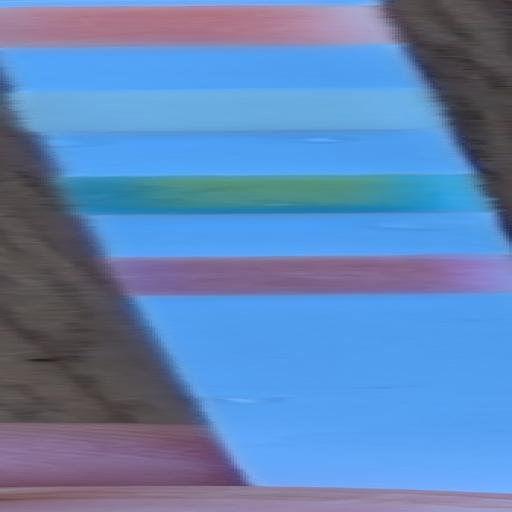pads: (0, 83, 465, 137), (0, 0, 413, 47), (51, 175, 507, 215), (95, 256, 512, 294)
